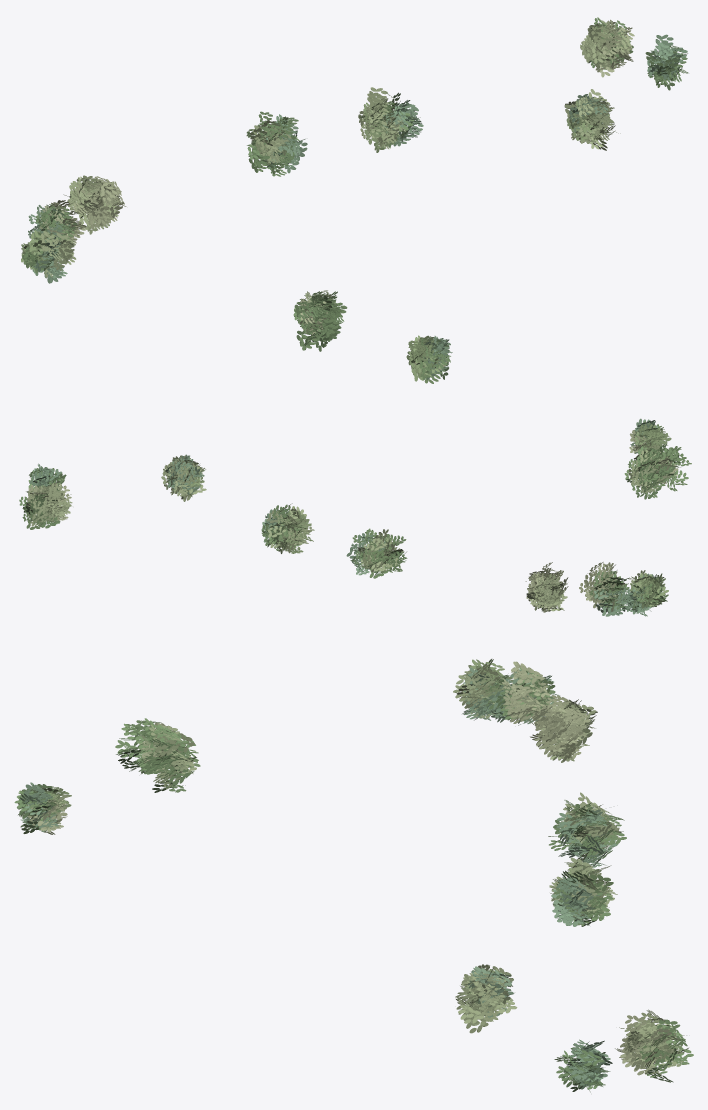
Rendered from campus-tree-5_-1-far.glb.
The picture shows the model from 3 angles, top to bottom: view 1: azimuth 30°, elevation 25°; view 2: azimuth 150°, elevation 25°; view 3: azimuth 270°, elevation 25°; orthographic projection. The views are drawn at different scales.
Parts seen in each view (by area): view 1: Campus leaf canopy; view 2: Campus leaf canopy; view 3: Campus leaf canopy.
Part boxes in pixels (x1,y1,x2,y2): Campus leaf canopy: [21, 17, 688, 383]; Campus leaf canopy: [19, 418, 691, 616]; Campus leaf canopy: [14, 659, 693, 1092].
Bounding box in the file's own units: 74.36 × 8.04 × 53.43.
Materials: 1 (1 with a texture image).
